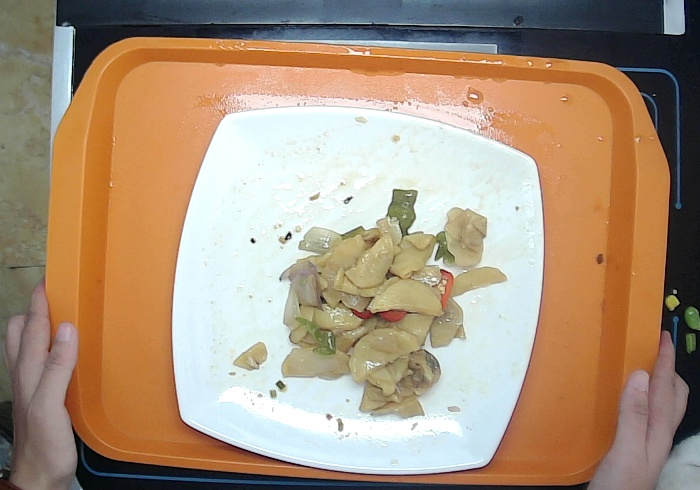ZNLD-Bai_Fang_Pan: (166, 104, 545, 477)
